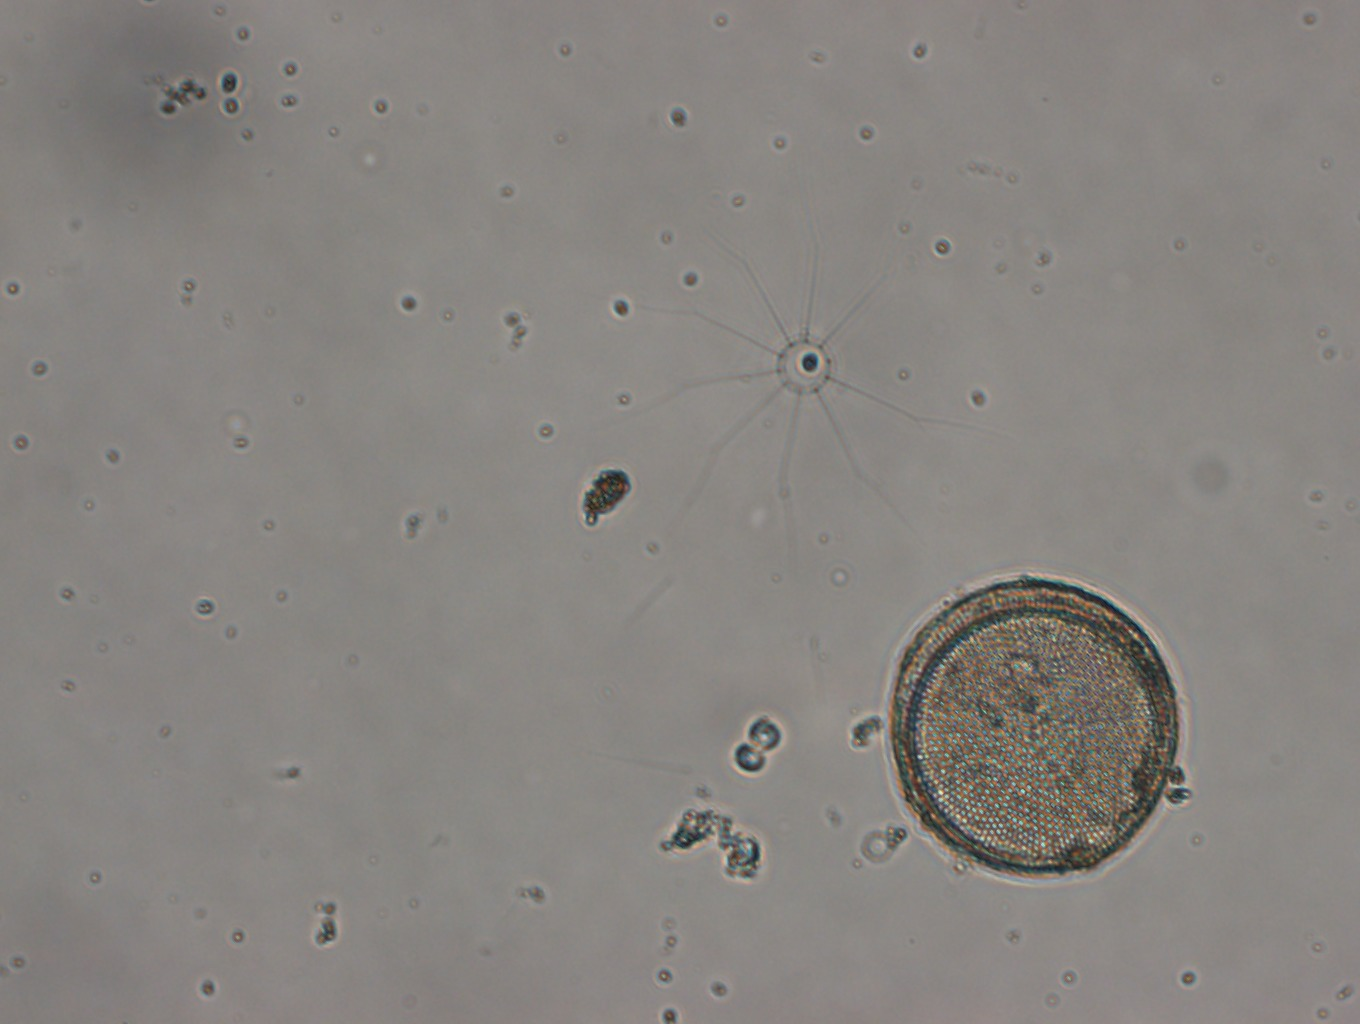bacteriastrum: (617, 208, 982, 561)
coscinodiscus: (882, 575, 1192, 887)
